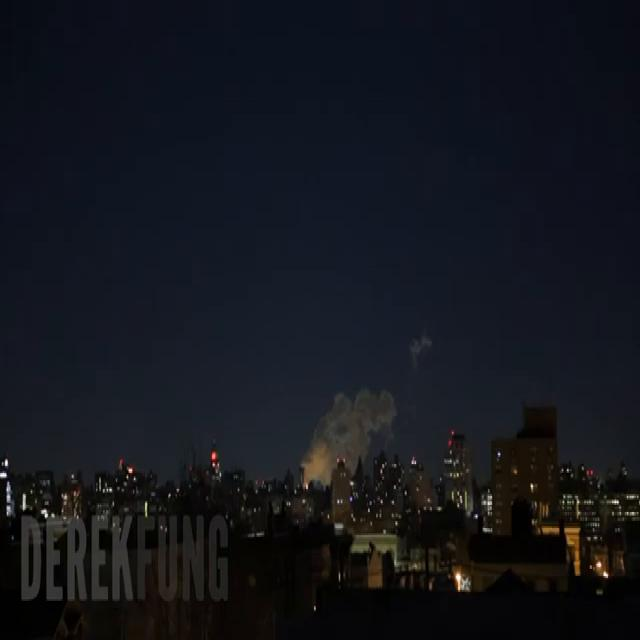smoke: (302, 388, 395, 484)
